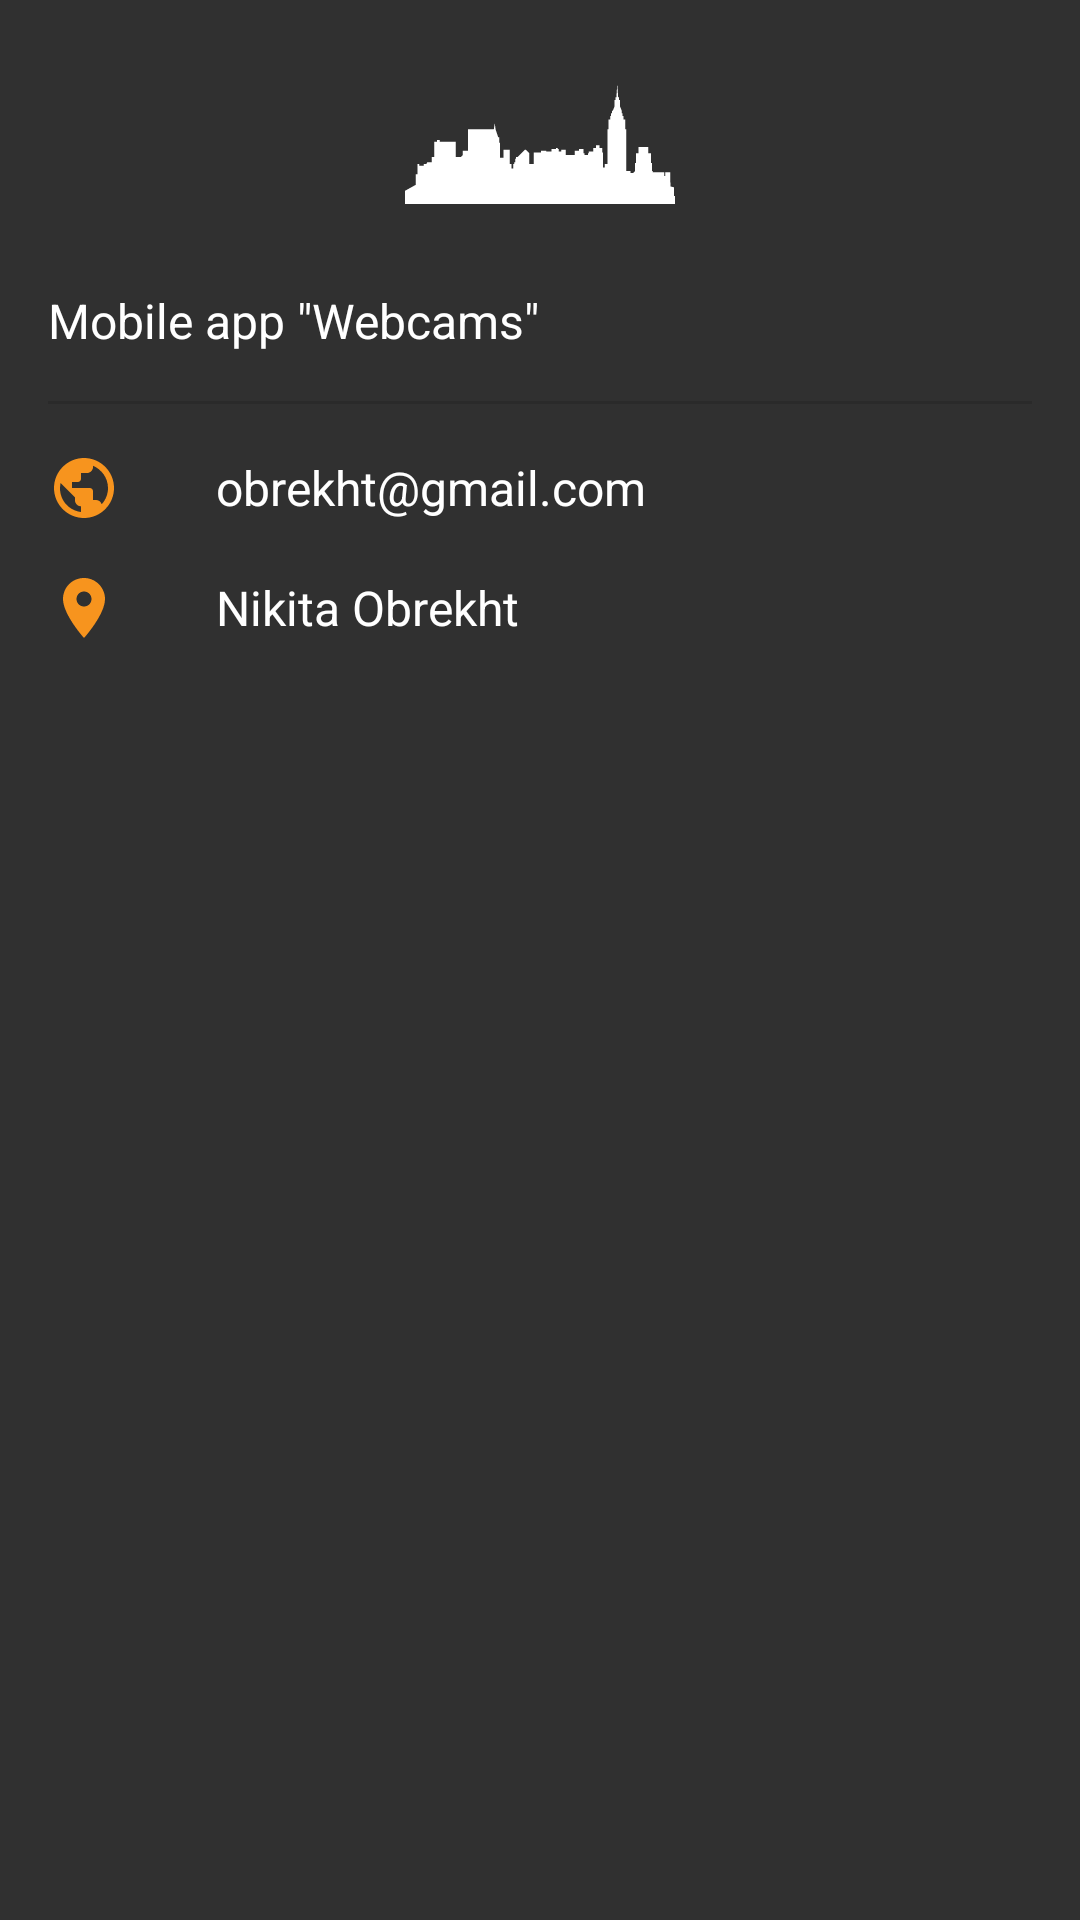

Screen size 1080 × 1920. Icon name, then its box in pixels as (x1, y1, x2, y2):
location: (63, 578, 105, 638)
public: (54, 458, 114, 518)
